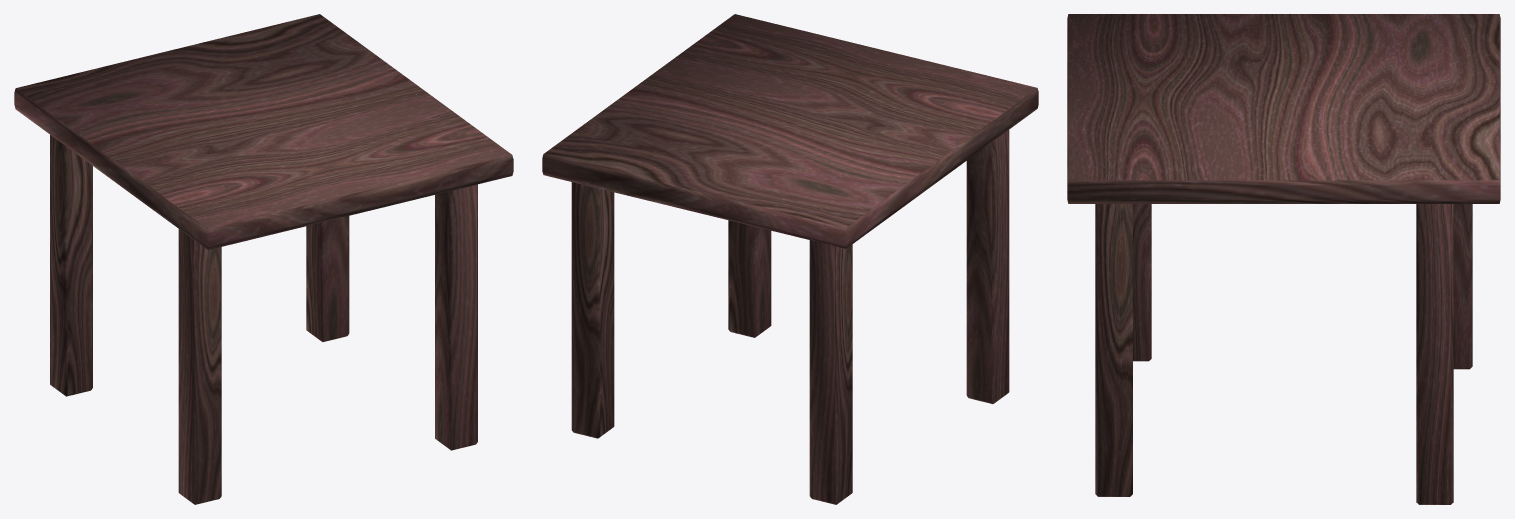
File: Chair.fbx
The picture shows the model from 3 angles, left to right: view 1: azimuth 30°, elevation 25°; view 2: azimuth 150°, elevation 25°; view 3: azimuth 270°, elevation 25°; orthographic projection. The views are drawn at different scales.
Parts seen in each view (by area): view 1: Chair; view 2: Chair; view 3: Chair.
Part boxes in pixels (x1=…): Chair: x1=14, y1=14, x2=513, y2=504; Chair: x1=542, y1=14, x2=1038, y2=504; Chair: x1=1067, y1=14, x2=1500, y2=504.
Size of the model in its own units: 0.1725 by 0.1585 by 0.189.
1 material, 1 textured.
